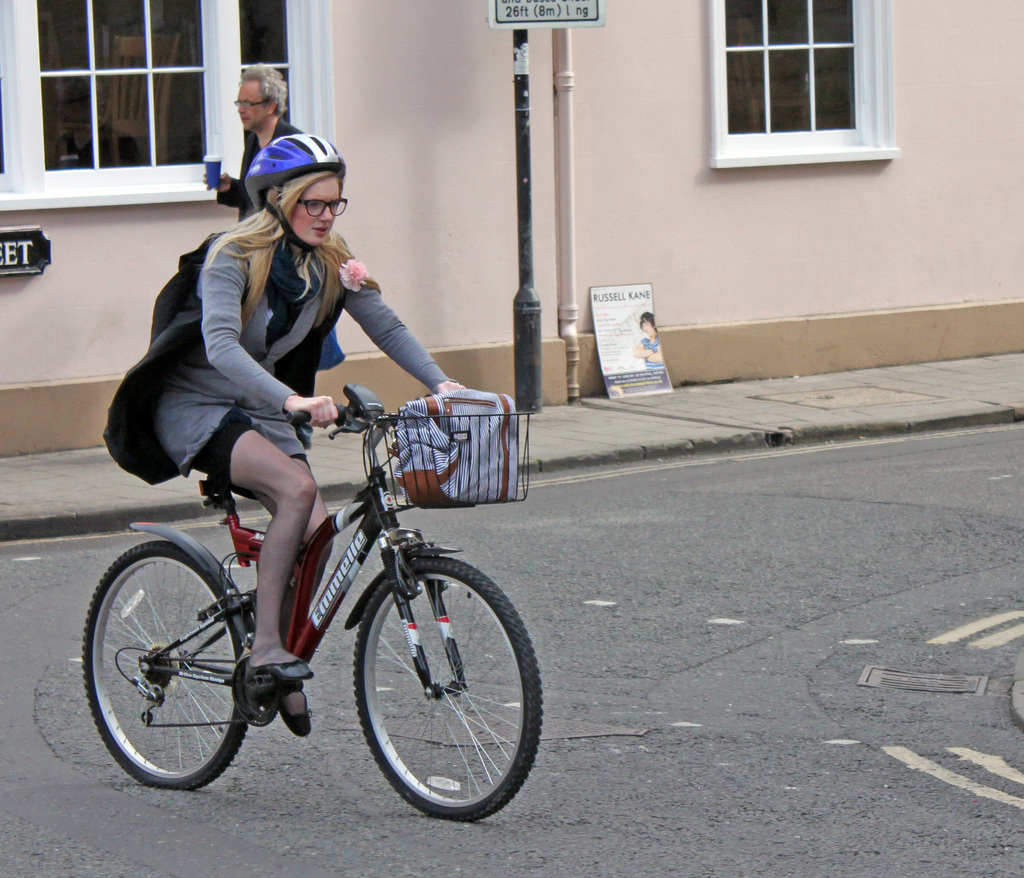Bike_toward: (57, 383, 525, 819)
